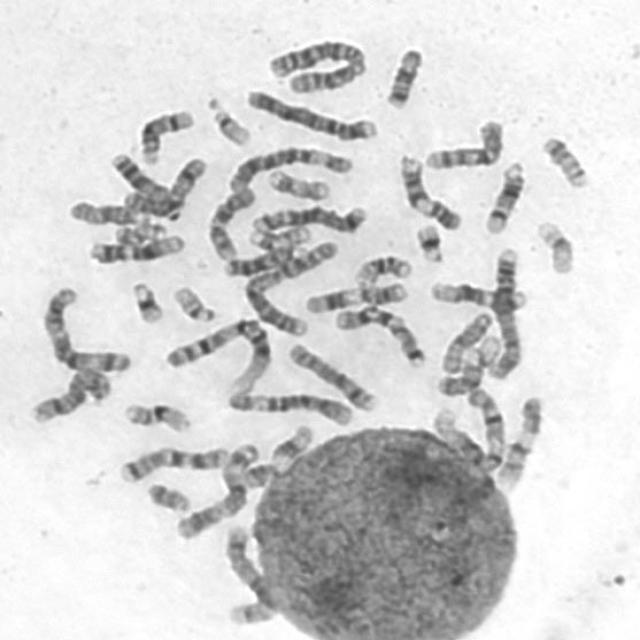A1: (160, 310, 274, 396), (426, 381, 508, 472)
A2: (238, 235, 341, 338), (262, 33, 369, 96)
A3: (169, 437, 263, 540), (34, 280, 134, 374)
B4: (239, 81, 380, 142), (483, 241, 526, 381)
B5: (218, 520, 280, 628), (245, 199, 370, 236)
C10: (418, 113, 507, 171), (200, 179, 258, 262)
C11: (234, 419, 315, 491), (298, 276, 410, 316)
C12: (82, 228, 187, 266), (424, 276, 529, 312)
C6: (222, 139, 355, 194), (220, 384, 355, 428)
C7: (328, 298, 428, 368), (113, 439, 232, 484)
C8: (282, 336, 381, 414), (23, 362, 115, 426)
C9: (392, 149, 464, 231), (490, 390, 546, 490)
D13: (106, 147, 182, 221), (218, 236, 300, 278)
D14: (132, 101, 197, 166), (477, 155, 527, 236)
D15: (433, 306, 495, 376), (62, 194, 149, 227)
E16: (117, 396, 194, 435), (347, 248, 414, 287)
E17: (261, 162, 332, 202), (242, 219, 312, 250)
E18: (378, 42, 425, 110), (430, 353, 485, 397)
F19: (530, 214, 578, 276), (458, 331, 504, 369)
F20: (534, 128, 592, 190), (109, 216, 168, 247)
G21: (124, 274, 167, 326), (409, 217, 447, 264)
G22: (200, 91, 253, 148), (166, 280, 218, 324)
X: (117, 150, 209, 217), (23, 362, 115, 426)
Y: (140, 476, 193, 513)
